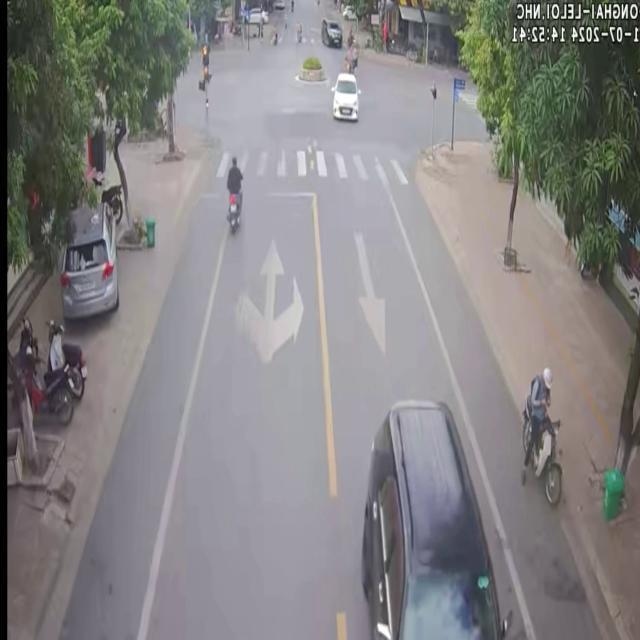car: (360, 400, 500, 638), (58, 194, 117, 318), (329, 71, 357, 117)
motobike: (14, 316, 73, 422), (518, 365, 560, 502), (46, 318, 86, 398), (224, 156, 240, 231)
stop_line: (200, 189, 313, 196)
yellow_light: (201, 40, 209, 85)
